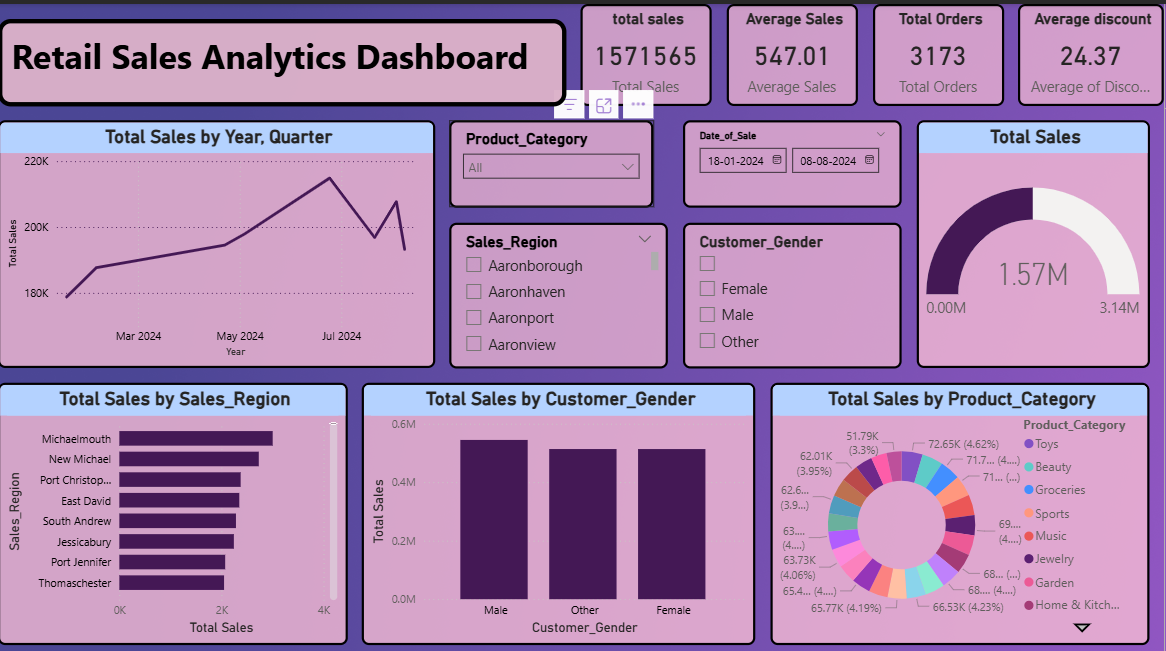

This screenshot's page, from the dashboard's own definition file:
{"tool":"powerbi","page":{"name":"Page 1","canvas":[1280,720],"ordinal":0},"visuals":[{"type":"card","title":"total sales","fields":{"Values":["sales_100k.Total Sales"]},"box":[640,0,144,112],"z":0},{"type":"card","title":"Total Orders","fields":{"Values":["sales_100k.Total Orders"]},"box":[960,0,144,112],"z":1000},{"type":"card","title":"Average Sales","fields":{"Values":["sales_100k.Average Sales"]},"box":[800,0,144,112],"z":2000},{"type":"card","title":"Average discount","fields":{"Values":["Avg(sales_100k.Discount)"]},"box":[1120,0,160,112],"z":3000},{"type":"lineChart","title":"Total Sales by Year, Quarter","fields":{"Y":["sales_100k.Total Sales"],"Category":["sales_100k.Date_of_Sale.Variation.Date Hierarchy.Year","sales_100k.Date_of_Sale.Variation.Date Hierarchy.Quarter","sales_100k.Date_of_Sale.Variation.Date Hierarchy.Month","sales_100k.Date_of_Sale.Variation.Date Hierarchy.Day"]},"box":[0,128,480,272],"z":4000},{"type":"barChart","fields":{"Y":["sales_100k.Total Sales"],"Category":["sales_100k.Sales_Region"]},"box":[0,416,384,288],"z":5000},{"type":"donutChart","fields":{"Category":["sales_100k.Product_Category"],"Y":["sales_100k.Total Sales"]},"box":[848,416,416,288],"z":6000},{"type":"columnChart","fields":{"Category":["sales_100k.Customer_Gender"],"Y":["sales_100k.Total Sales"]},"box":[400,416,432,288],"z":7000},{"type":"slicer","fields":{"Values":["sales_100k.Product_Category"]},"box":[496,128,224,96],"z":8000},{"type":"slicer","fields":{"Values":["sales_100k.Customer_Gender"]},"box":[752,240,240,160],"z":9000},{"type":"slicer","fields":{"Values":["sales_100k.Sales_Region"]},"box":[496,240,240,160],"z":10000},{"type":"slicer","fields":{"Values":["sales_100k.Date_of_Sale"]},"box":[752,128,240,96],"z":11000},{"type":"textbox","box":[0,16,624,96],"z":12000},{"type":"gauge","fields":{"Y":["sales_100k.Total Sales"]},"box":[1008,128,256,272],"z":13000}]}

Visuals, with their boxes in screenshot pixels (x1, y1, x2, y2), scaled from the page's 1280x720 canvas onto the 1166x651 screenshot:
"total sales" card: box(583, 0, 714, 101)
"Total Orders" card: box(874, 0, 1006, 101)
"Average Sales" card: box(729, 0, 860, 101)
"Average discount" card: box(1020, 0, 1165, 101)
"Total Sales by Year, Quarter" lineChart: box(0, 116, 437, 362)
barChart - sales_100k.Total Sales x sales_100k.Sales_Region: box(0, 376, 350, 637)
donutChart - sales_100k.Product_Category x sales_100k.Total Sales: box(772, 376, 1151, 637)
columnChart - sales_100k.Customer_Gender x sales_100k.Total Sales: box(364, 376, 758, 637)
slicer - sales_100k.Product_Category: box(452, 116, 656, 203)
slicer - sales_100k.Customer_Gender: box(685, 217, 904, 362)
slicer - sales_100k.Sales_Region: box(452, 217, 670, 362)
slicer - sales_100k.Date_of_Sale: box(685, 116, 904, 203)
textbox: box(0, 14, 568, 101)
gauge - sales_100k.Total Sales: box(918, 116, 1151, 362)
